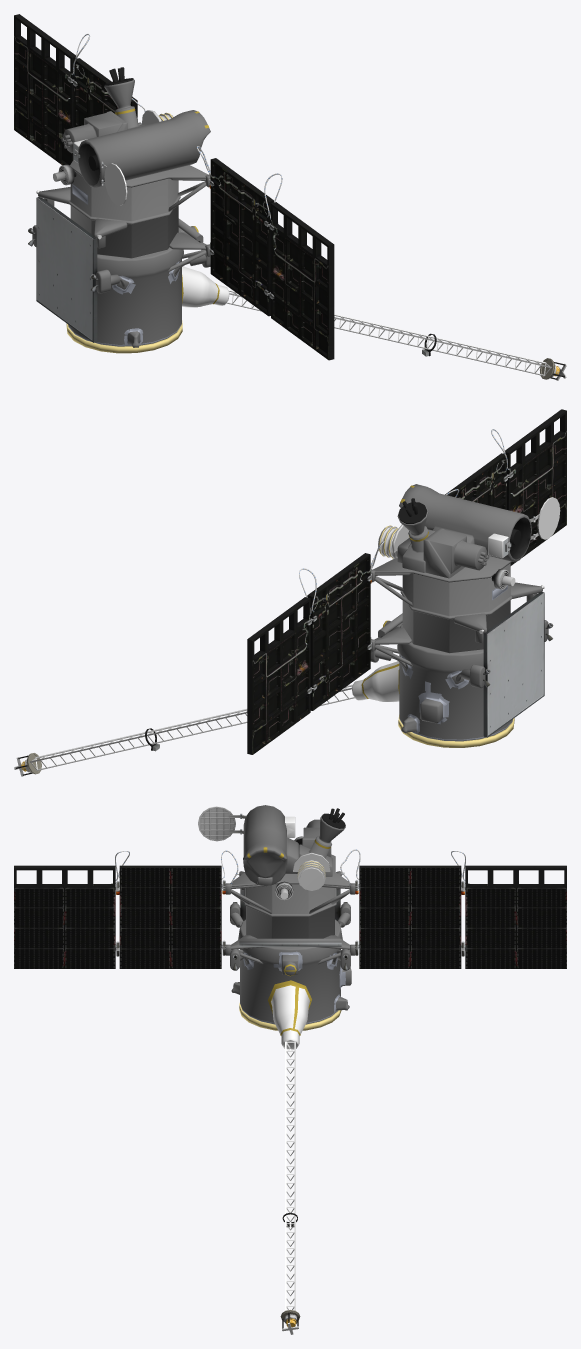
The model's file is dscovr.gltf.
The picture shows the model from 3 angles, top to bottom: view 1: azimuth 30°, elevation 25°; view 2: azimuth 150°, elevation 25°; view 3: azimuth 270°, elevation 25°; orthographic projection. The views are drawn at different scales.
Parts seen in each view (by area): view 1: BUS, solar_array, antenna, mag_boom, brass_base, epic_lens, silver_tape, epic_interior; view 2: BUS, solar_array, antenna, mag_boom, silver_tape, brass_base, epic_lens, faraday_cup, epic_interior, cone_instruments; view 3: solar_array, BUS, mag_boom, epic_lens, faraday_cup, cylinder_thingy, gold_tape.
Boxes of the visible parts, left/top/right/bottom form: BUS: left=32, top=79, right=229, bottom=347; solar_array: left=14, top=14, right=334, bottom=360; antenna: left=36, top=197, right=97, bottom=342; mag_boom: left=226, top=289, right=551, bottom=376; brass_base: left=66, top=320, right=182, bottom=353; epic_lens: left=101, top=161, right=127, bottom=205; silver_tape: left=72, top=184, right=180, bottom=345; epic_interior: left=78, top=143, right=100, bottom=185; BUS: left=351, top=484, right=548, bottom=741; solar_array: left=247, top=409, right=566, bottom=754; antenna: left=483, top=592, right=544, bottom=737; mag_boom: left=30, top=684, right=354, bottom=770; silver_tape: left=400, top=585, right=507, bottom=733; brass_base: left=398, top=715, right=514, bottom=747; epic_lens: left=529, top=497, right=560, bottom=539; faraday_cup: left=378, top=524, right=409, bottom=558; epic_interior: left=510, top=517, right=530, bottom=559; cone_instruments: left=398, top=498, right=427, bottom=523; solar_array: left=14, top=865, right=566, bottom=968; BUS: left=225, top=805, right=355, bottom=1050; mag_boom: left=285, top=1041, right=295, bottom=1310; epic_lens: left=198, top=806, right=246, bottom=841; faraday_cup: left=293, top=852, right=330, bottom=890; cylinder_thingy: left=239, top=938, right=341, bottom=946; gold_tape: left=247, top=839, right=330, bottom=1035.
Size of the model in its own units: 5.67 by 4.24 by 6.11.
Materials: 16 (5 with a texture image).
